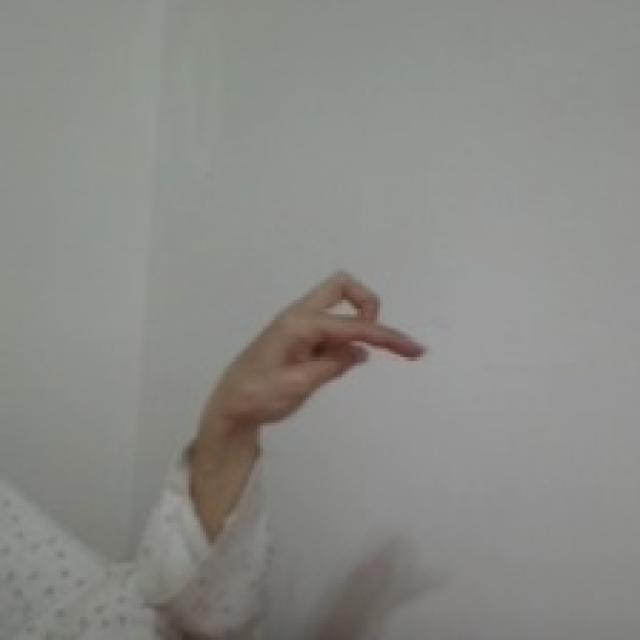sunday: (215, 258, 440, 424)
